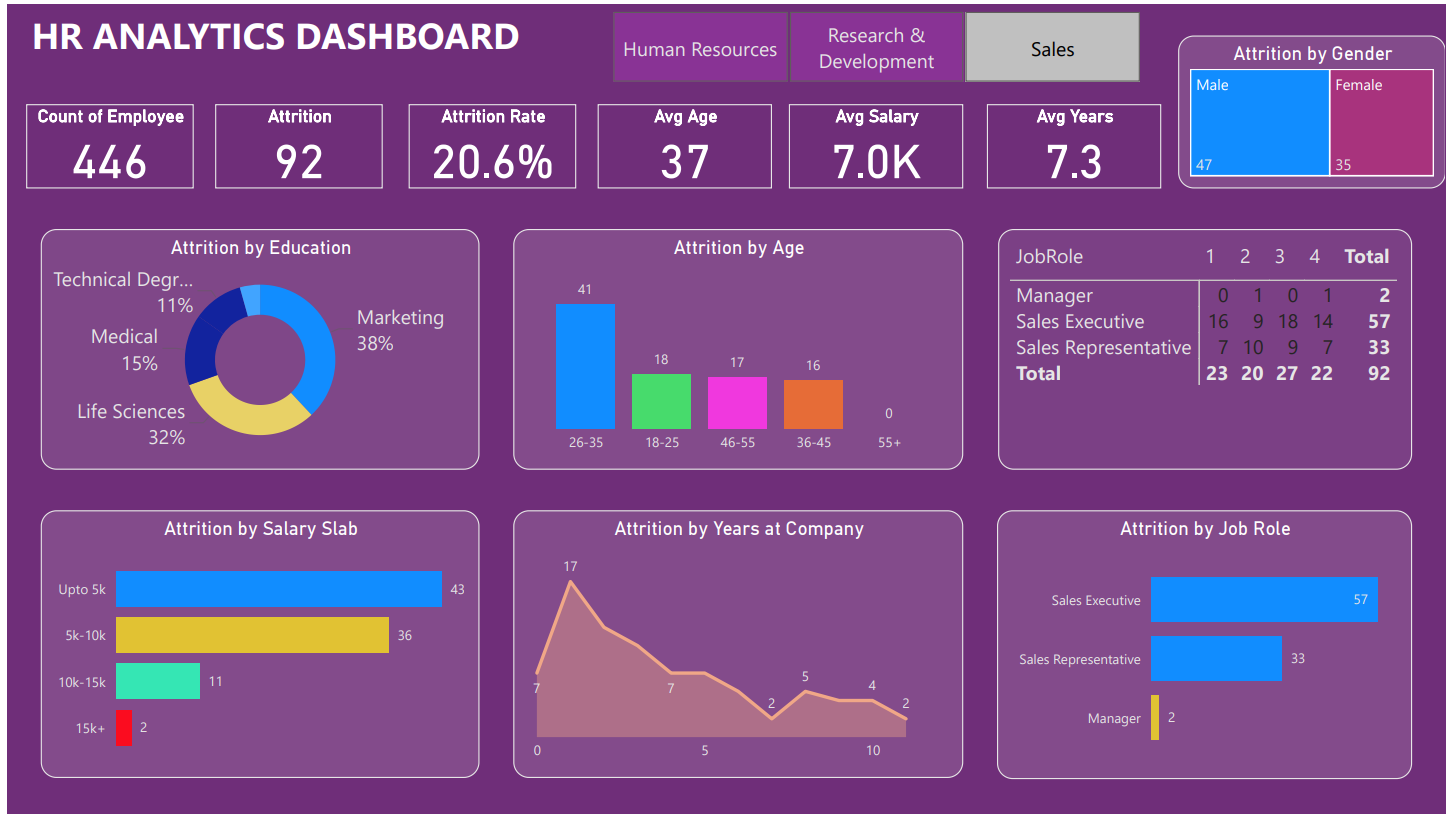

This screenshot's page, from the dashboard's own definition file:
{"tool":"powerbi","page":{"name":"Page 1","canvas":[1280,720],"ordinal":0},"visuals":[{"type":"card","title":"Count of Employee","fields":{"Values":["CountNonNull(HR_Analytics.EmpID)"]},"box":[17,88.8,149.3,75.6],"z":0},{"type":"card","title":"Attrition","fields":{"Values":["Sum(HR_Analytics.AttritionCount)"]},"box":[185.2,88.8,149.3,75.6],"z":1000},{"type":"card","title":"Attrition Rate","fields":{"Values":["HR_Analytics.AttritionRate"]},"box":[357.2,88.8,149.3,75.6],"z":2000},{"type":"card","title":"Avg Age","fields":{"Values":["Avg(HR_Analytics.Age)"]},"box":[525.4,88.8,155,75.6],"z":3000},{"type":"card","title":"Avg Salary","fields":{"Values":["Avg(HR_Analytics.MonthlyIncome)"]},"box":[695.4,88.8,155,75.6],"z":4000},{"type":"card","title":"Avg Years","fields":{"Values":["Avg(HR_Analytics.YearsAtCompany)"]},"box":[871.2,88.8,155,75.6],"z":5000},{"type":"donutChart","title":"Attrition by Education","fields":{"Category":["HR_Analytics.EducationField"],"Y":["Sum(HR_Analytics.AttritionCount)"]},"box":[30.2,200.3,389.3,213.5],"z":6000},{"type":"columnChart","title":"Attrition by Age","fields":{"Y":["Sum(HR_Analytics.AttritionCount)"],"Category":["HR_Analytics.AgeGroup"]},"box":[449.8,200.3,400.6,213.5],"z":7000},{"type":"pivotTable","fields":{"Rows":["HR_Analytics.JobRole"],"Columns":["HR_Analytics.JobSatisfaction"],"Values":["Sum(HR_Analytics.AttritionCount)"]},"box":[880.6,200.3,368.5,213.5],"z":8000},{"type":"barChart","title":"Attrition by Salary Slab","fields":{"Category":["HR_Analytics.SalarySlab"],"Y":["Sum(HR_Analytics.AttritionCount)"]},"box":[30.2,449.8,389.3,238.1],"z":9000},{"type":"barChart","title":"Attrition by Job Role","fields":{"Y":["Sum(HR_Analytics.AttritionCount)"],"Category":["HR_Analytics.JobRole"]},"box":[880,450.4,369.1,238.5],"z":10000},{"type":"areaChart","title":"Attrition by Years at Company","fields":{"Category":["HR_Analytics.YearsAtCompany"],"Y":["Sum(HR_Analytics.AttritionCount)"]},"box":[449.8,449.8,400.6,238.1],"z":11000},{"type":"treemap","title":"Attrition by Gender","fields":{"Group":["HR_Analytics.Gender"],"Values":["Sum(HR_Analytics.AttritionCount)"]},"box":[1041.3,28.3,238.1,136.1],"z":12000},{"type":"slicer","fields":{"Values":["HR_Analytics.Department"]},"box":[512.9,0,518.6,75.7],"z":13000},{"type":"textbox","box":[17,0,451.7,75.6],"z":14000}]}

Visuals, with their boxes in screenshot pixels (x1, y1, x2, y2), scaled from the page's 1280x720 canvas onto the 1450x823 screenshot:
"Count of Employee" card: <box>19,102,188,188</box>
"Attrition" card: <box>210,102,379,188</box>
"Attrition Rate" card: <box>405,102,574,188</box>
"Avg Age" card: <box>595,102,771,188</box>
"Avg Salary" card: <box>788,102,963,188</box>
"Avg Years" card: <box>987,102,1162,188</box>
"Attrition by Education" donutChart: <box>34,229,475,473</box>
"Attrition by Age" columnChart: <box>510,229,963,473</box>
pivotTable - HR_Analytics.JobRole x HR_Analytics.JobSatisfaction: <box>998,229,1415,473</box>
"Attrition by Salary Slab" barChart: <box>34,514,475,786</box>
"Attrition by Job Role" barChart: <box>997,515,1415,787</box>
"Attrition by Years at Company" areaChart: <box>510,514,963,786</box>
"Attrition by Gender" treemap: <box>1180,32,1449,188</box>
slicer - HR_Analytics.Department: <box>581,0,1168,87</box>
textbox: <box>19,0,531,86</box>
